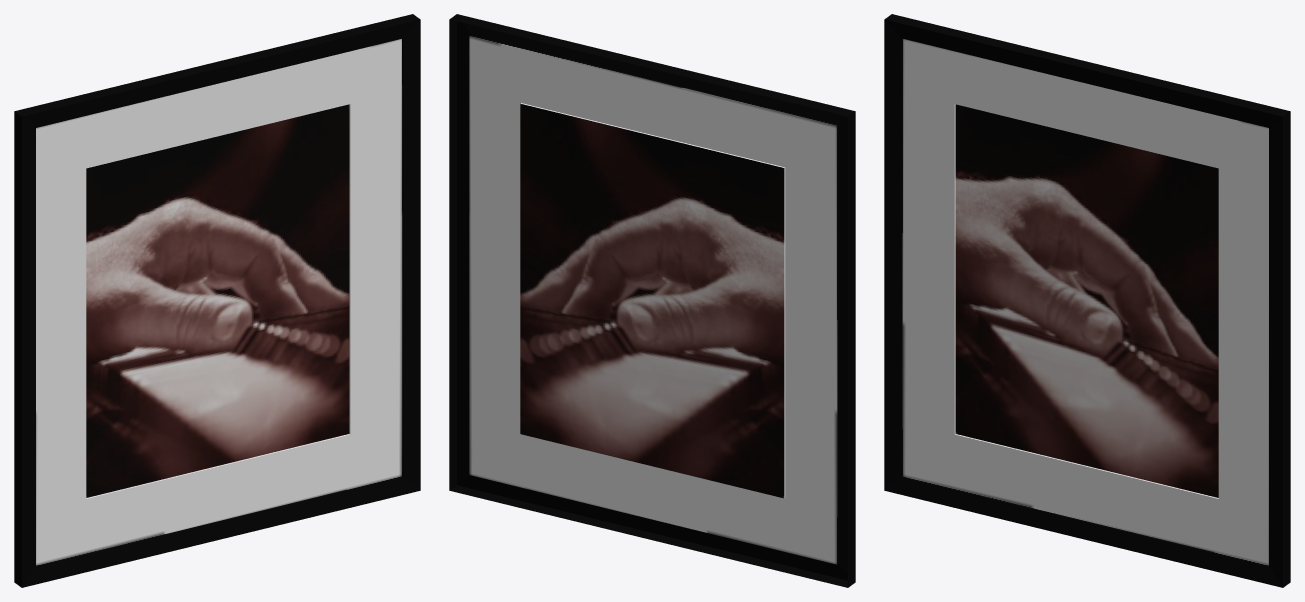
File: HW_FramePhoto07.fbx
3 renders of one model, left to right at view 1: azimuth 30°, elevation 25°; view 2: azimuth 150°, elevation 25°; view 3: azimuth 330°, elevation 25°, orthographic.
Visible parts, largest first — view 1: HW_FramePhoto07; view 2: HW_FramePhoto07; view 3: HW_FramePhoto07.
Part boxes in pixels (x1,y1,x2,y2): HW_FramePhoto07: (14, 14, 420, 587); HW_FramePhoto07: (449, 14, 855, 587); HW_FramePhoto07: (884, 14, 1290, 587).
Bounding box in the file's own units: 0.77 × 0.87 × 0.025.
